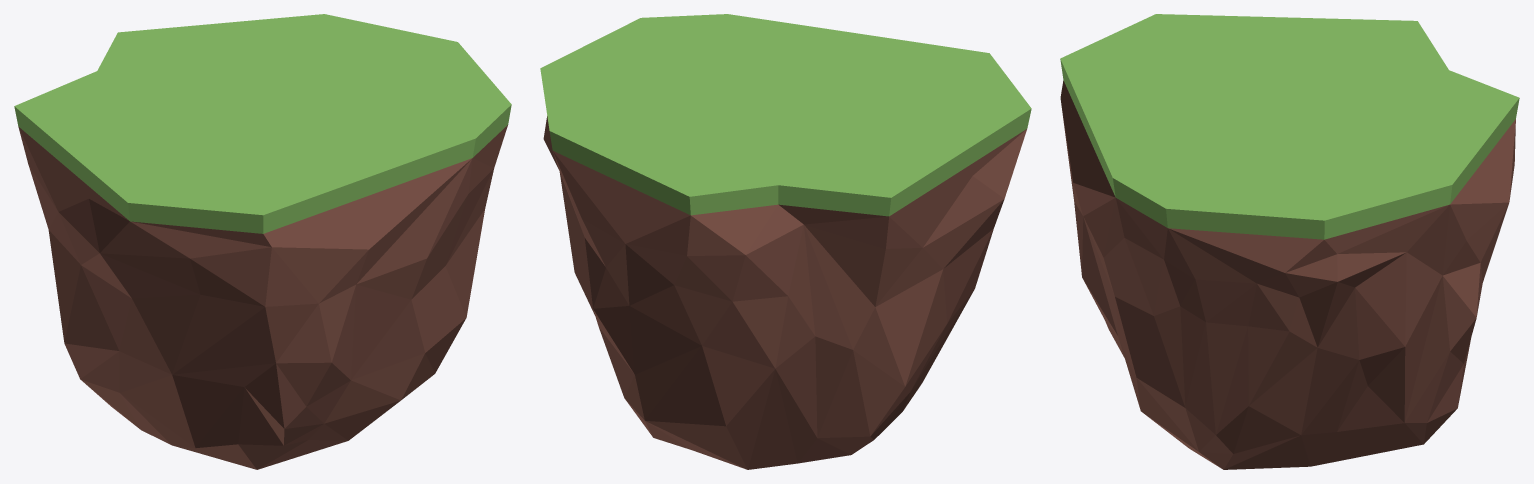
Rendered from Island19.fbx.
3 views of the same model, side by side, from view 1: azimuth 30°, elevation 25°; view 2: azimuth 150°, elevation 25°; view 3: azimuth 270°, elevation 25° (orthographic). The views are drawn at different scales.
Parts seen in each view (by area): view 1: Island19; view 2: Island19; view 3: Island19.
Part boxes in pixels (x1,y1,x2,y2): Island19: (14,14,511,469); Island19: (540,14,1031,469); Island19: (1060,14,1519,469).
Bounding box in the file's own units: 3.73 × 2.8 × 3.5.
